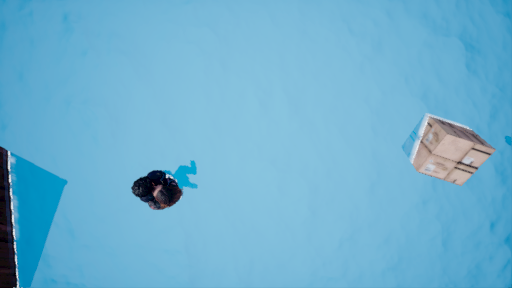person: (126, 158, 195, 211)
